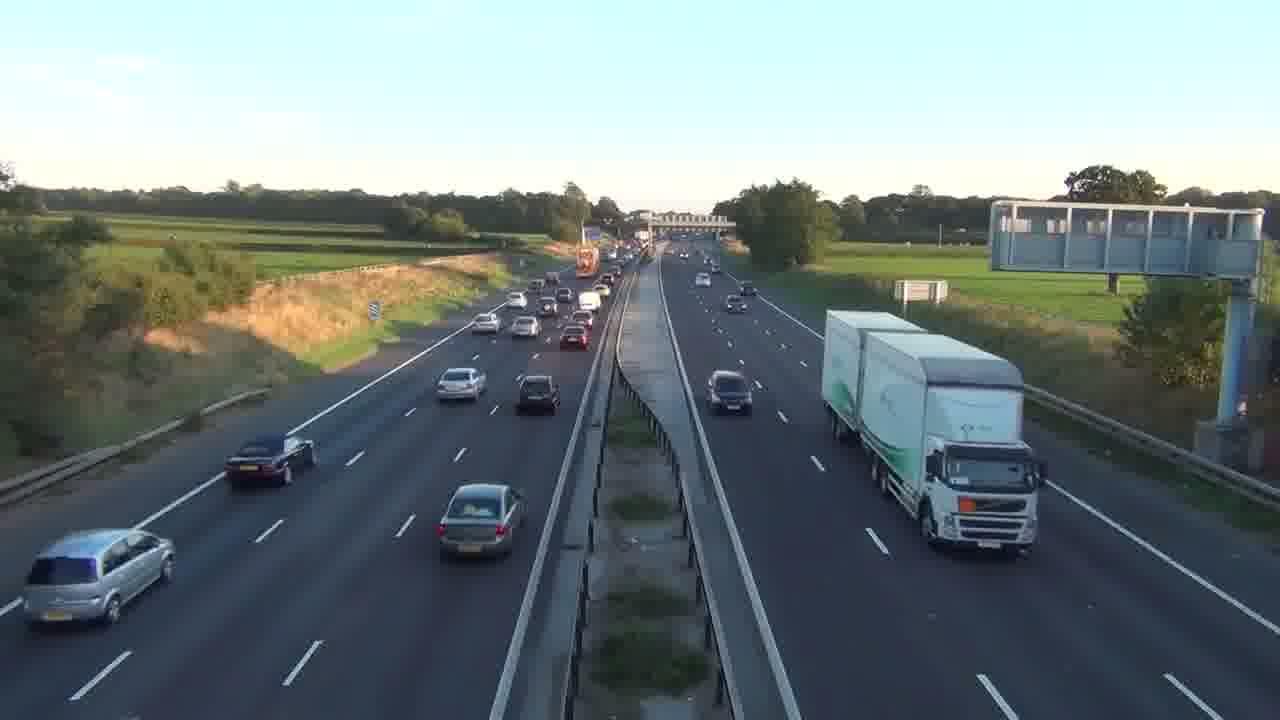car: (22, 526, 176, 628), (435, 482, 527, 561), (705, 369, 753, 414), (515, 373, 560, 415), (434, 367, 486, 402)
truck: (822, 308, 1041, 560), (224, 433, 317, 488)
